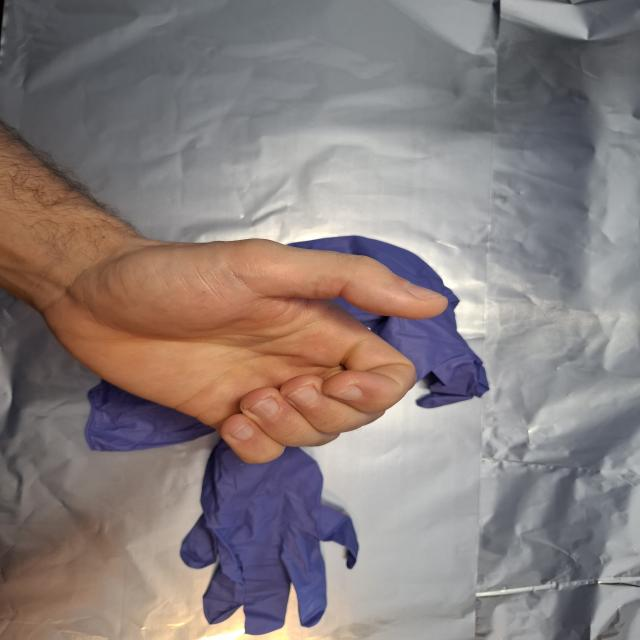glove_off: (35, 238, 451, 466)
